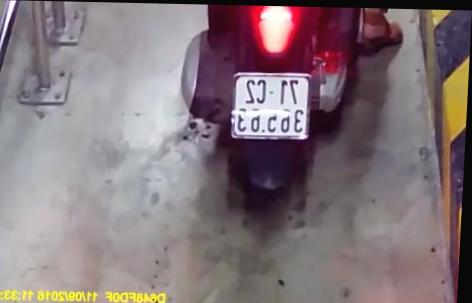License_Plate: (222, 68, 320, 144)
